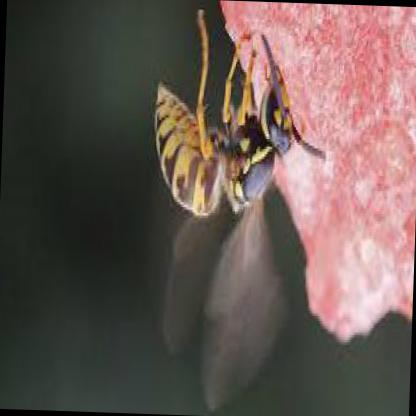fruit fly: (153, 15, 323, 217)
